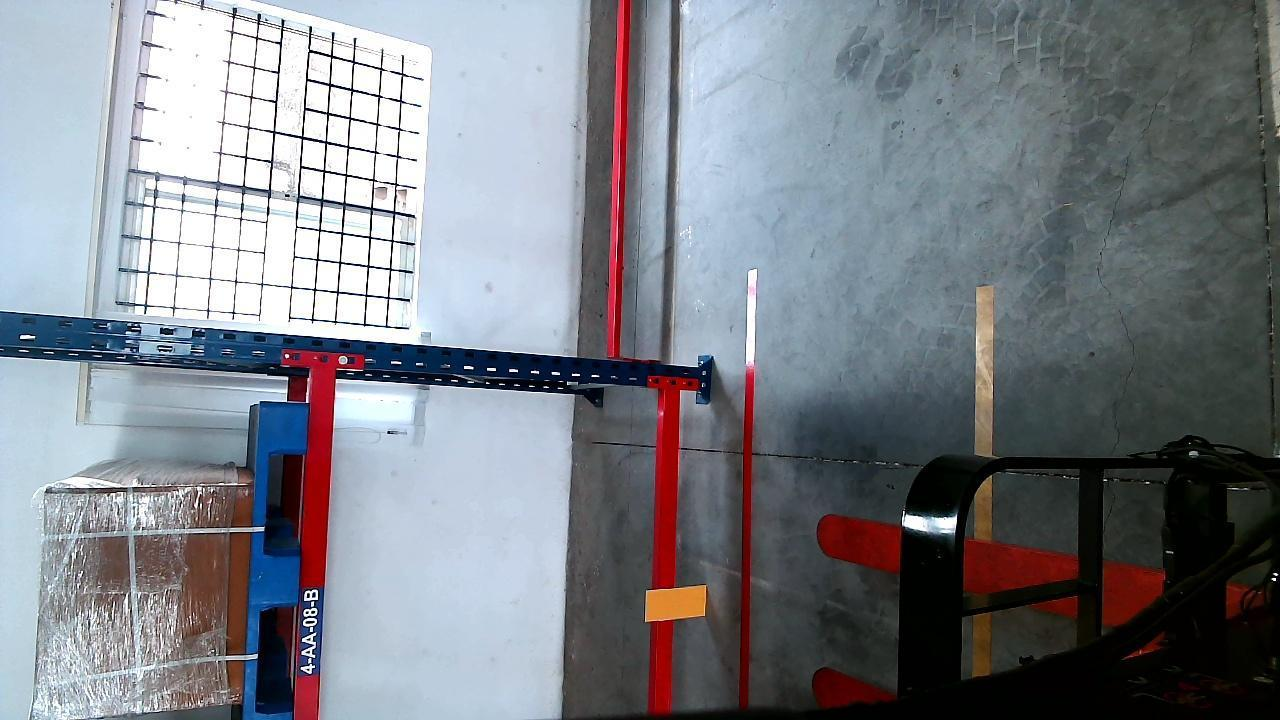h_rack: (295, 372, 334, 717), (651, 393, 682, 709)
orange_strip: (647, 585, 707, 621)
red_line: (733, 272, 760, 720)
small_pallet: (243, 412, 305, 720)
yellow_line: (973, 285, 994, 670)
